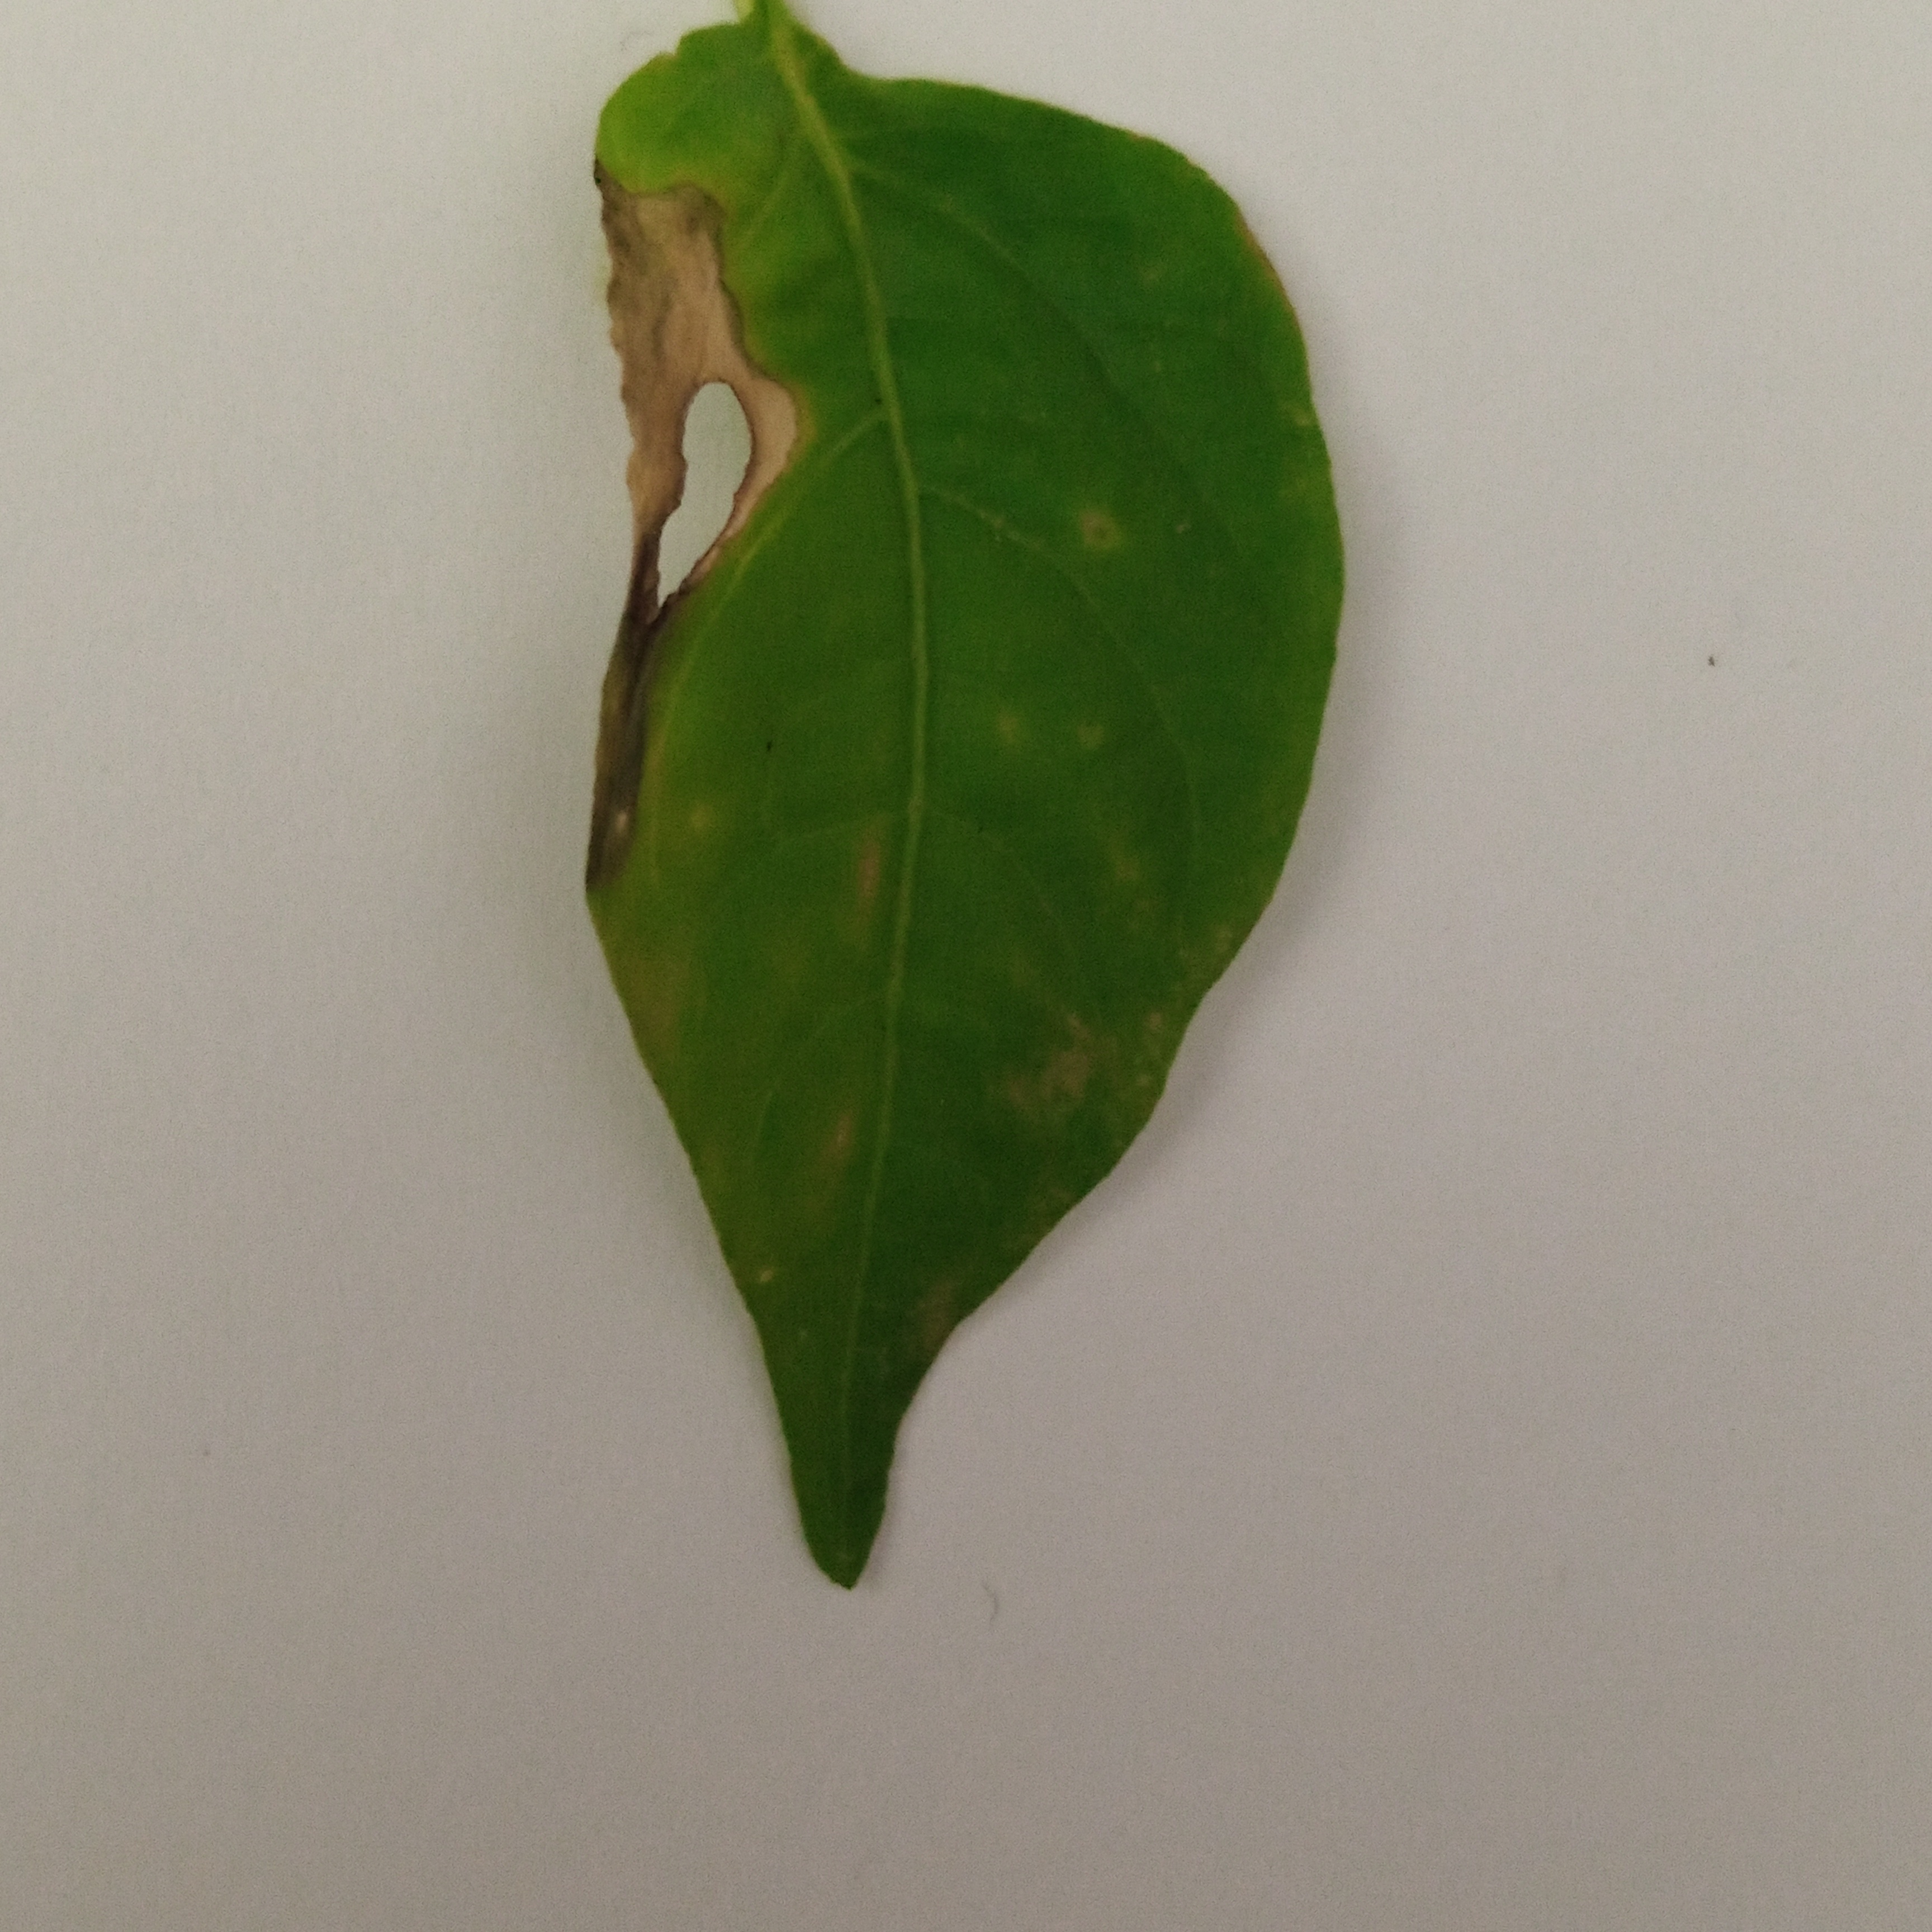Leaf: (363, 25, 1495, 1707)
